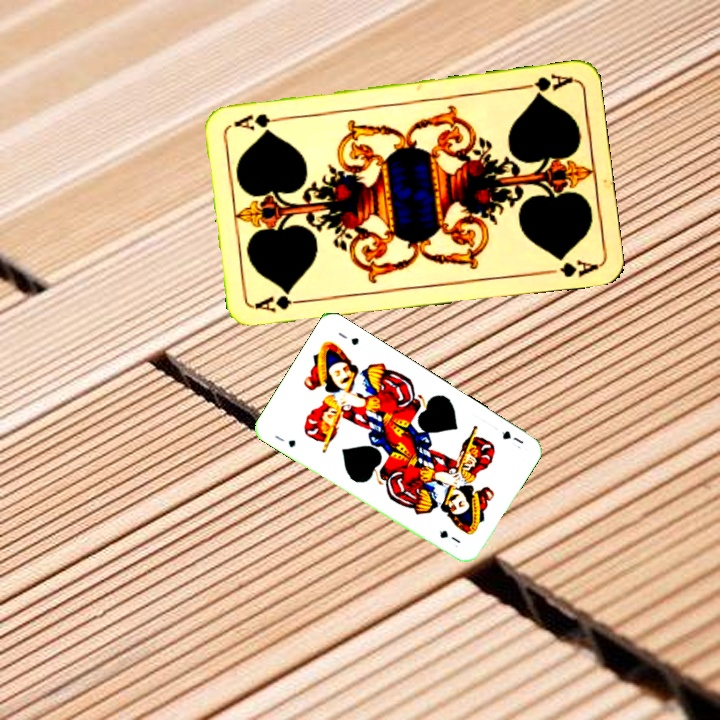GA: (515, 70, 574, 100), (251, 291, 310, 315)
GU: (498, 426, 526, 451), (271, 431, 298, 450)
